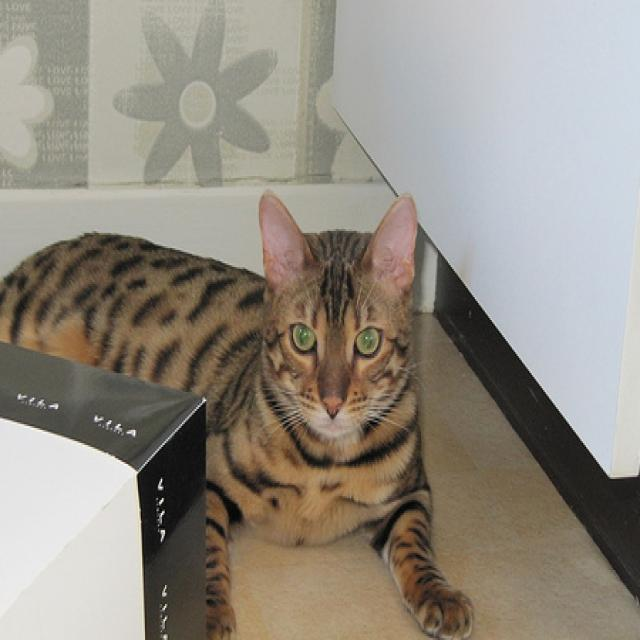Bengal: (0, 182, 489, 640)
